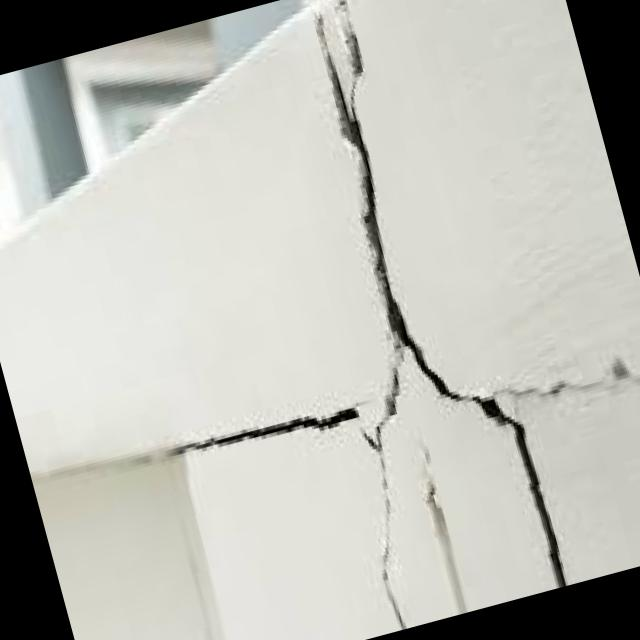crack: (300, 0, 569, 609), (314, 334, 469, 630), (168, 386, 376, 499)
